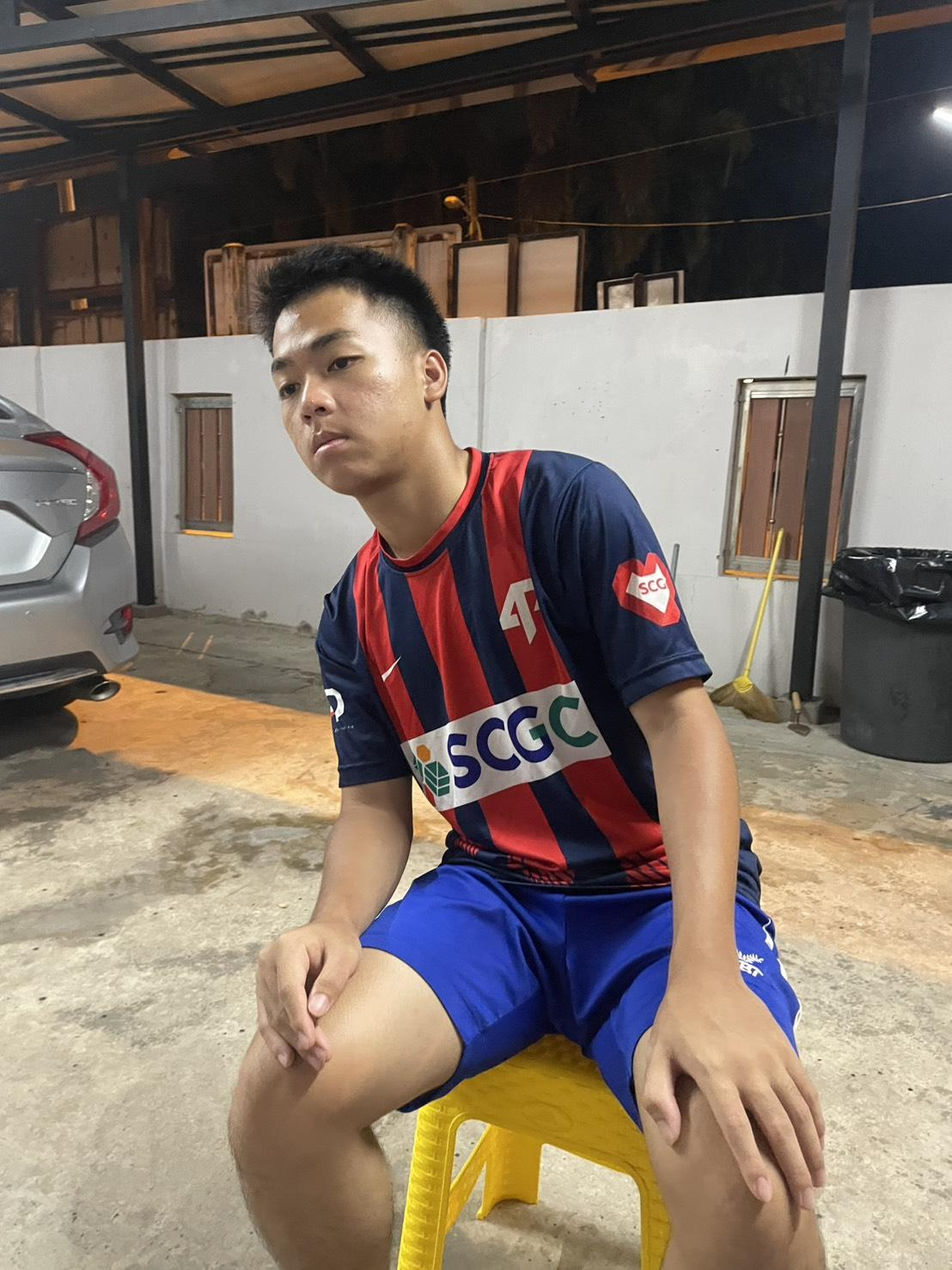BadPosture: (253, 243, 760, 930)
